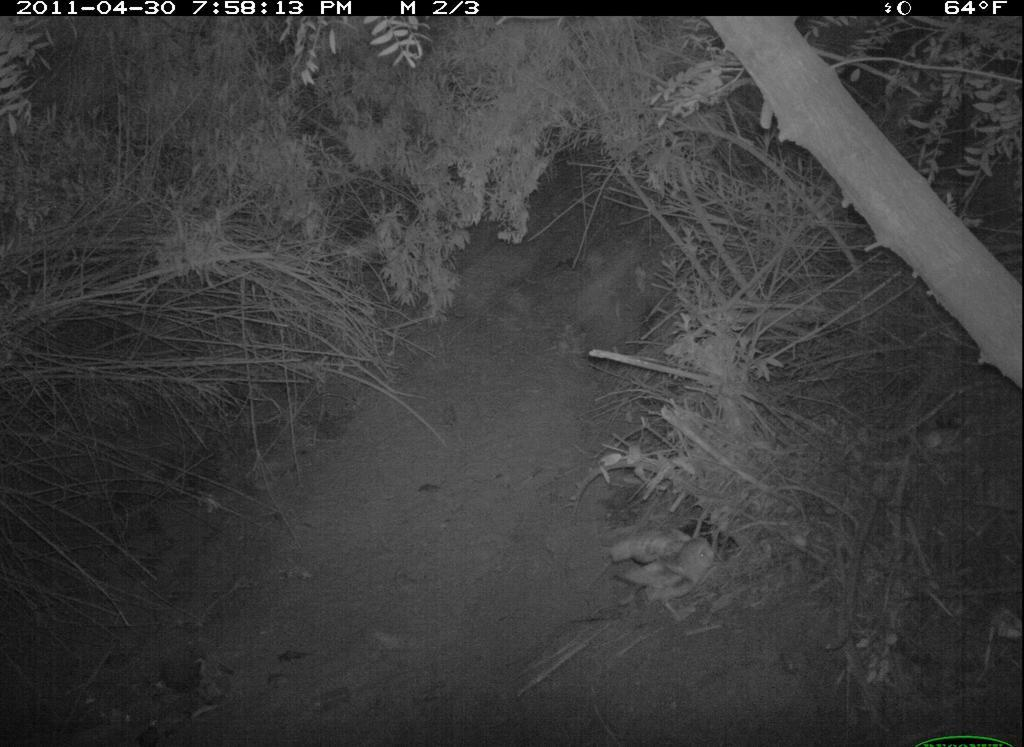bird: (613, 520, 722, 620)
